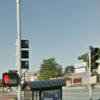Traffic light: (4, 33, 33, 89)
